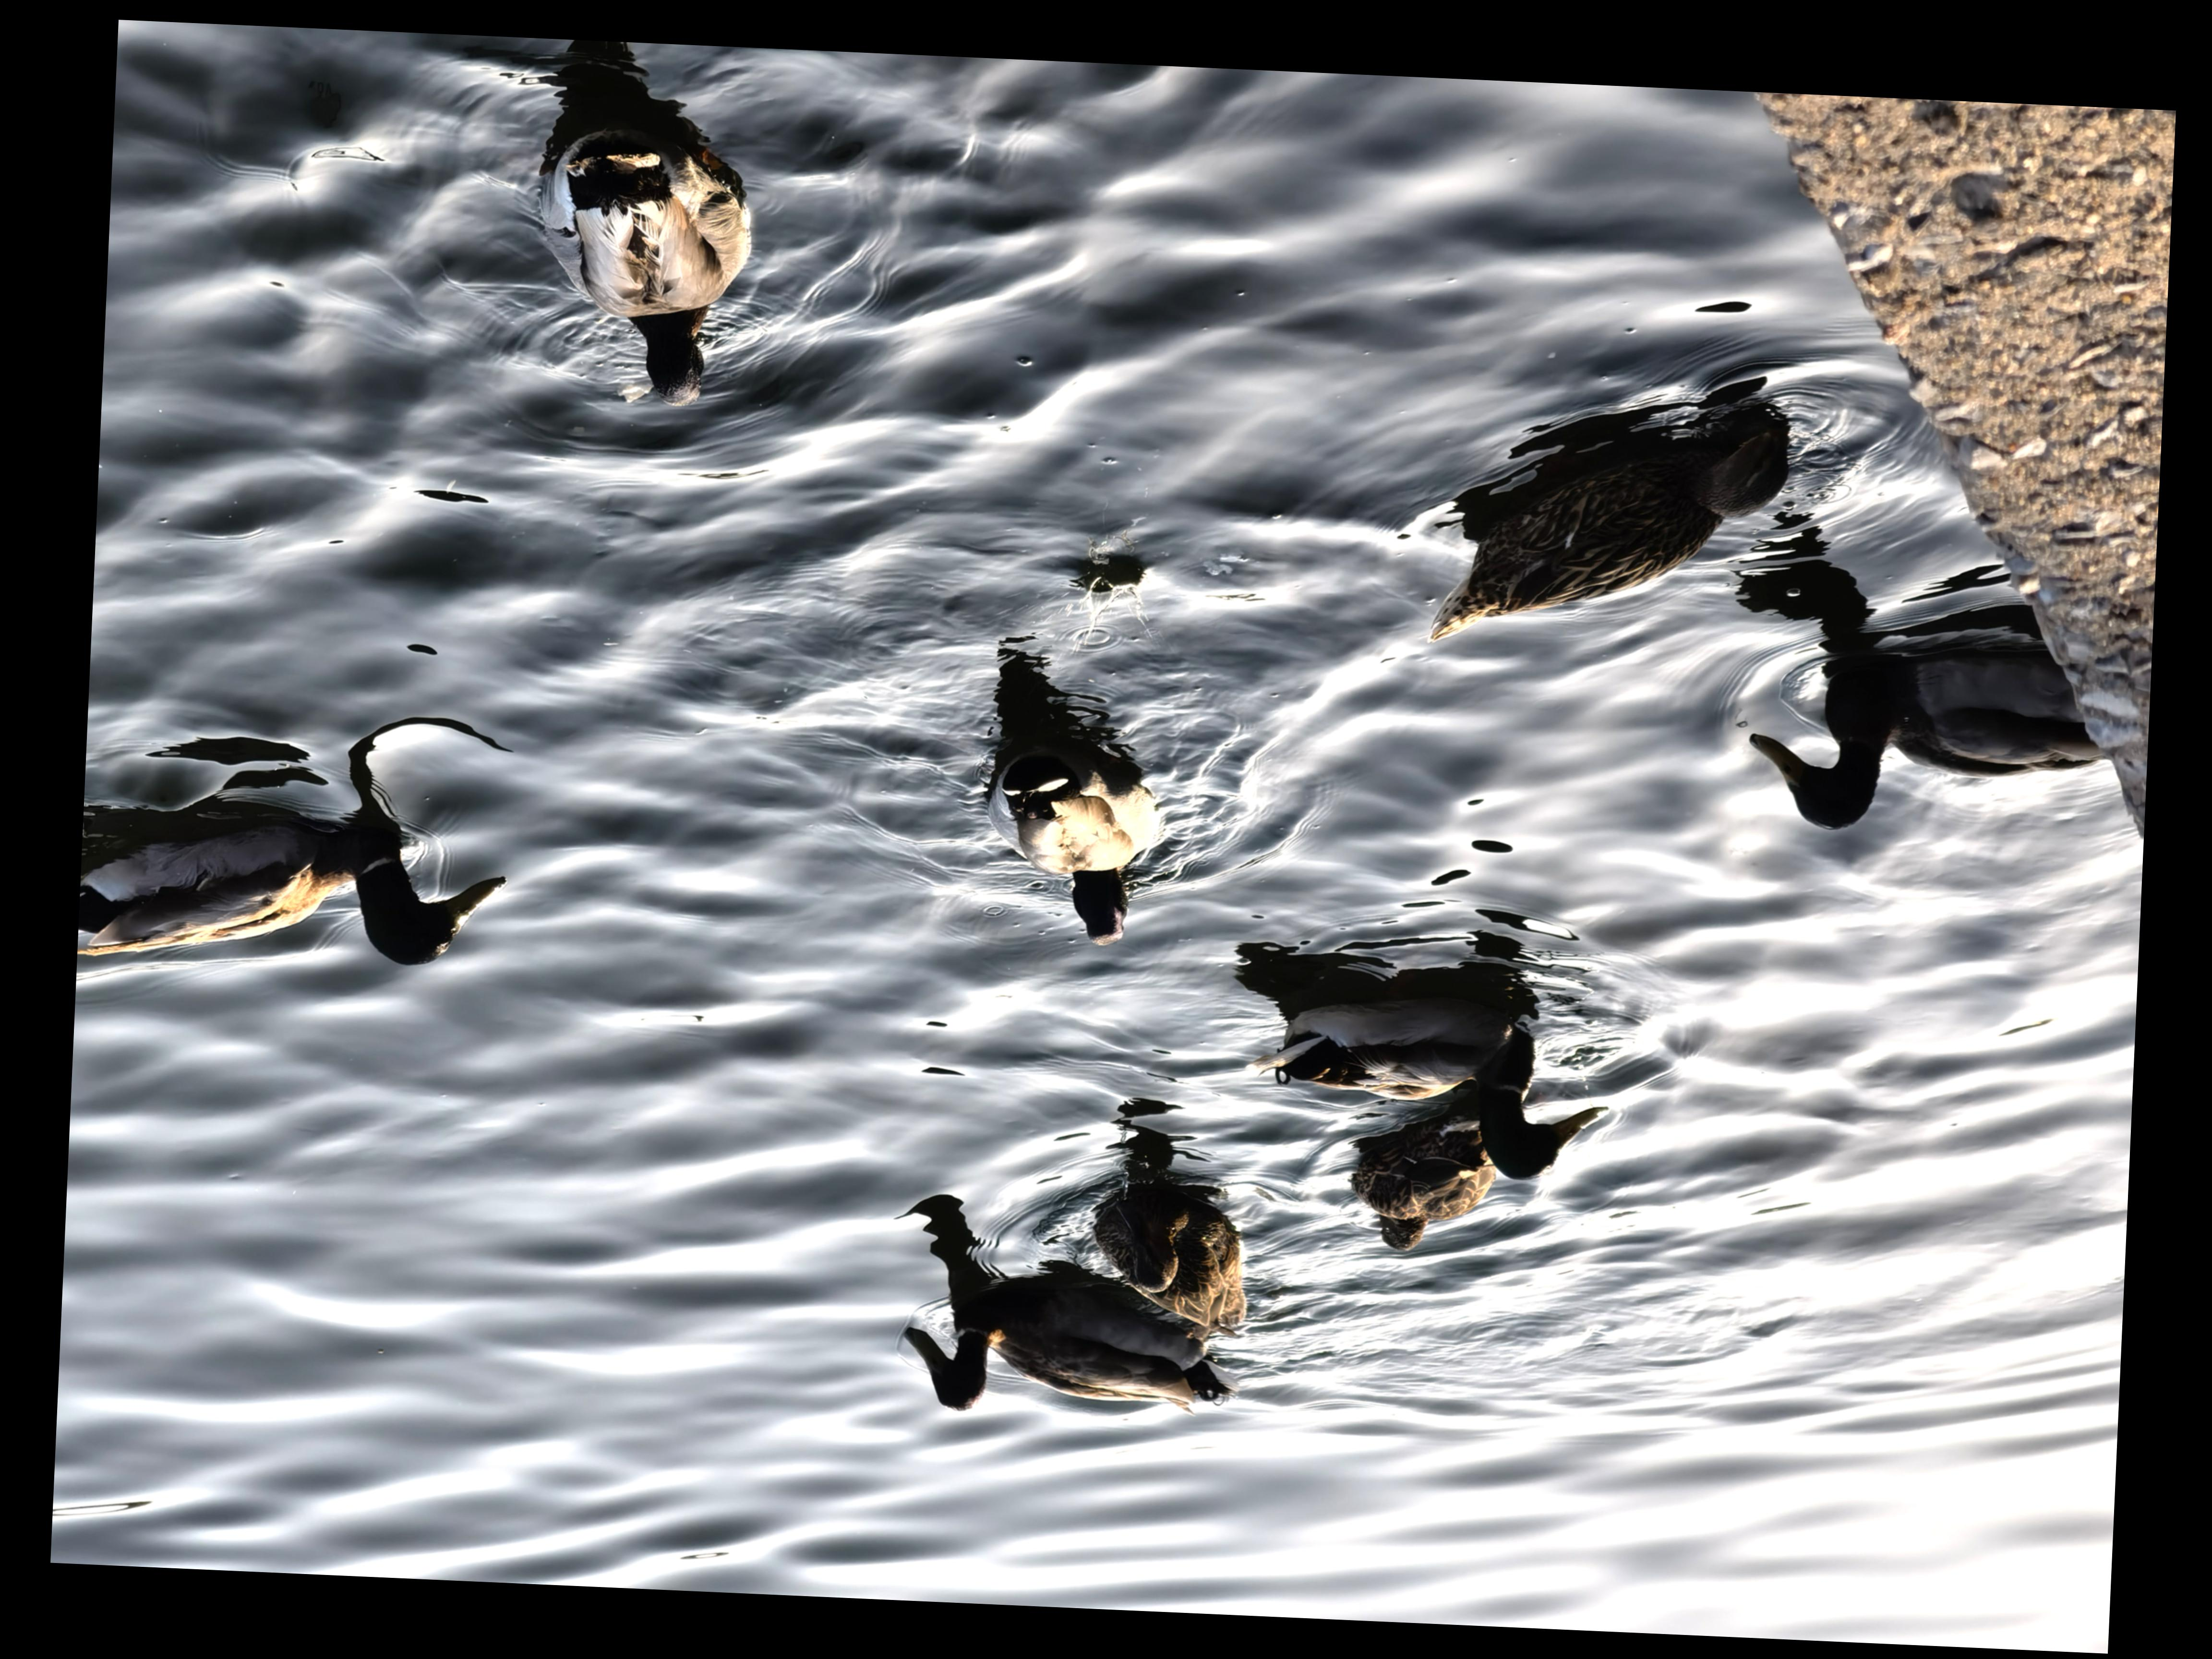duck: (1406, 380, 1815, 666), (75, 774, 519, 1014), (481, 101, 773, 437), (1212, 955, 1609, 1178), (1737, 634, 2121, 845), (885, 1243, 1252, 1448), (961, 701, 1162, 955), (1068, 1159, 1270, 1340), (1320, 1124, 1505, 1249)
